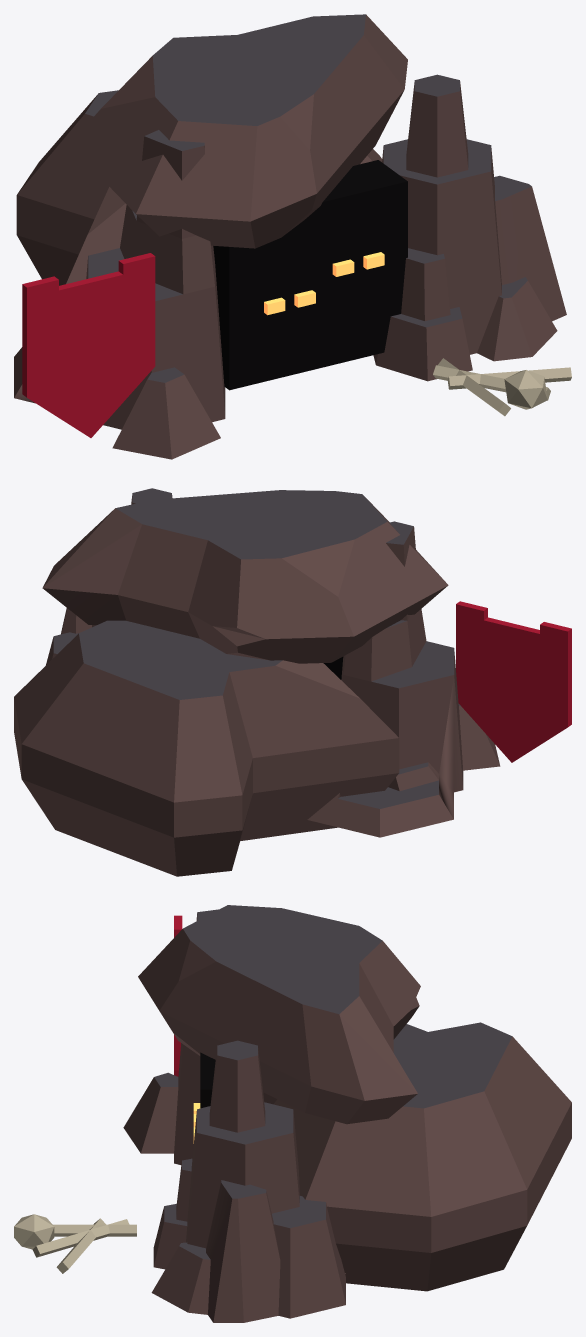
File: wolfden_l1.glb
3 renders of one model, top to bottom at view 1: azimuth 30°, elevation 25°; view 2: azimuth 150°, elevation 25°; view 3: azimuth 270°, elevation 25°, orthographic. The views are drawn at different scales.
Parts seen in each view (by area): view 1: wolfden_l1; view 2: wolfden_l1; view 3: wolfden_l1.
Boxes of the visible parts, x1,y1,x2,y2 form: wolfden_l1: (14, 14, 571, 459); wolfden_l1: (14, 488, 571, 876); wolfden_l1: (14, 905, 571, 1322).
Size of the model in its own units: 4.19 by 2.11 by 4.02.
